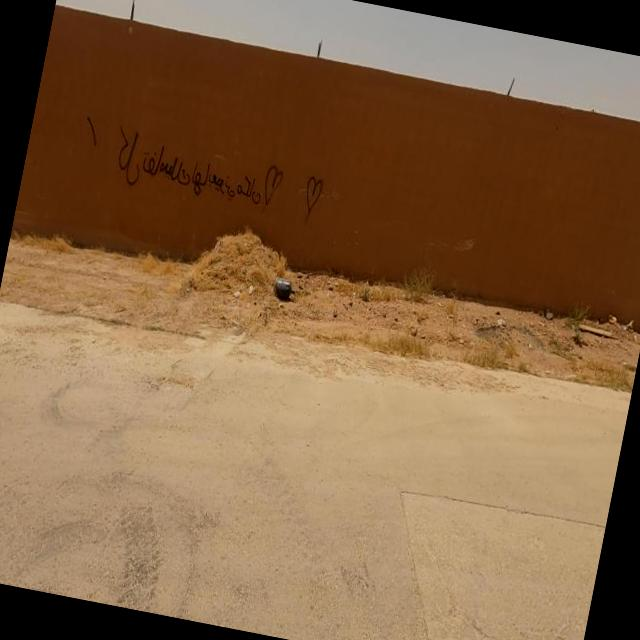debris: (16, 60, 390, 277), (264, 131, 358, 262), (491, 260, 595, 375), (550, 273, 640, 388), (244, 234, 334, 330)
